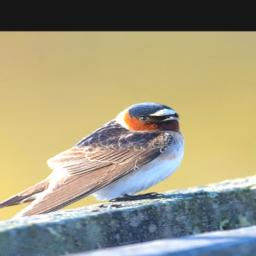Swallow: (0, 102, 187, 224)
